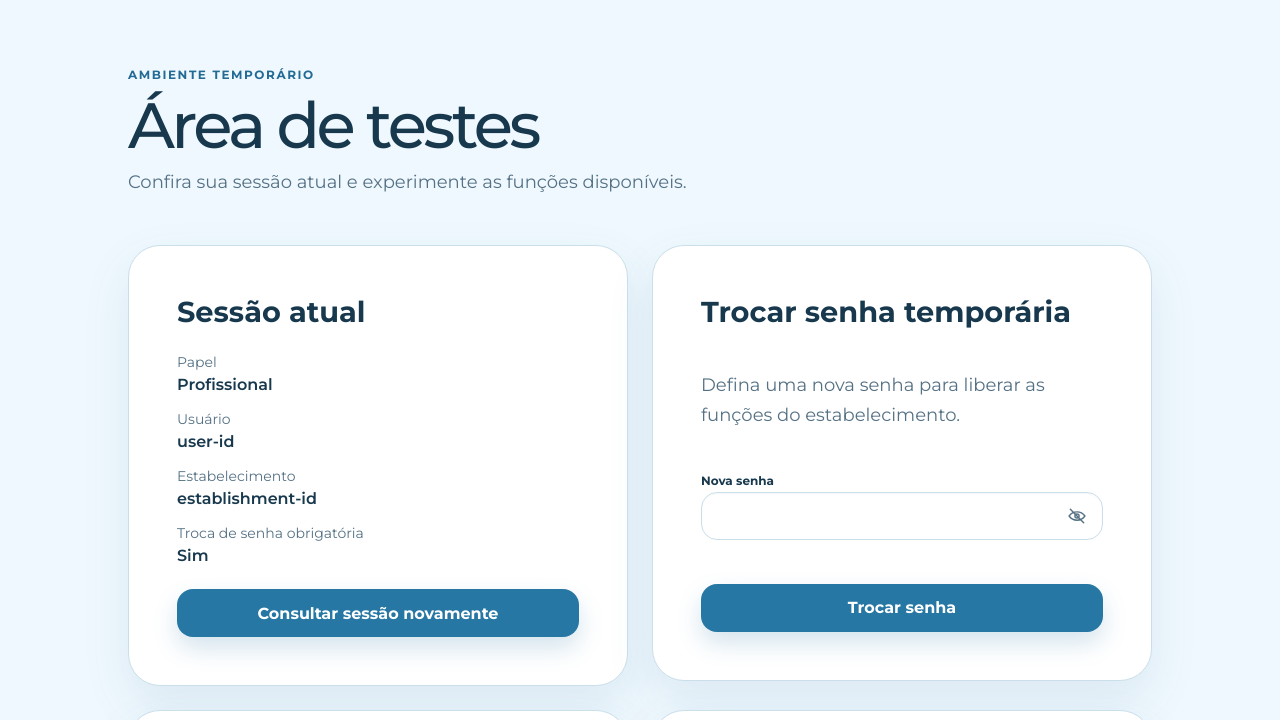
Test: valida a nova senha  antes de enviar e foca o campo inválido
Expected: the heading "Trocar senha temporária" is shown, [701,294,1103,330]
Click the button "Trocar senha".
click(902, 608)  # box [701,584,1103,632]
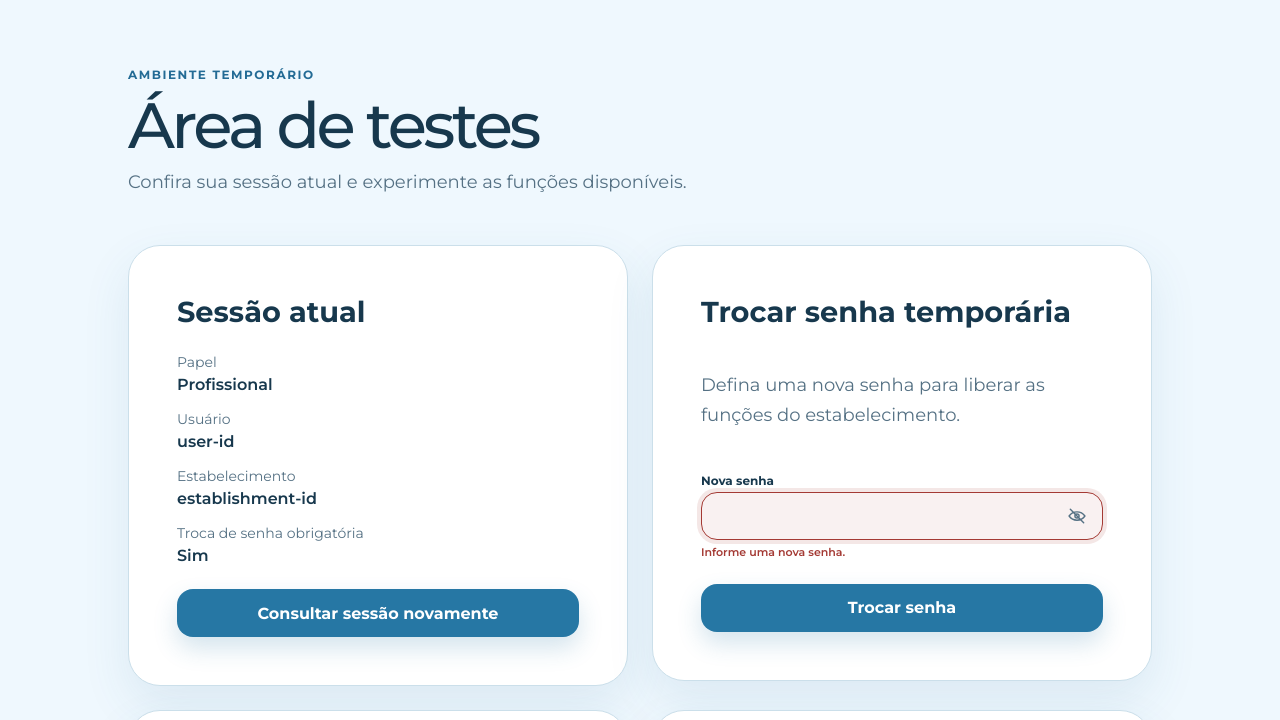
Result: the text "Informe uma nova senha." is shown at [701,545,845,559]
